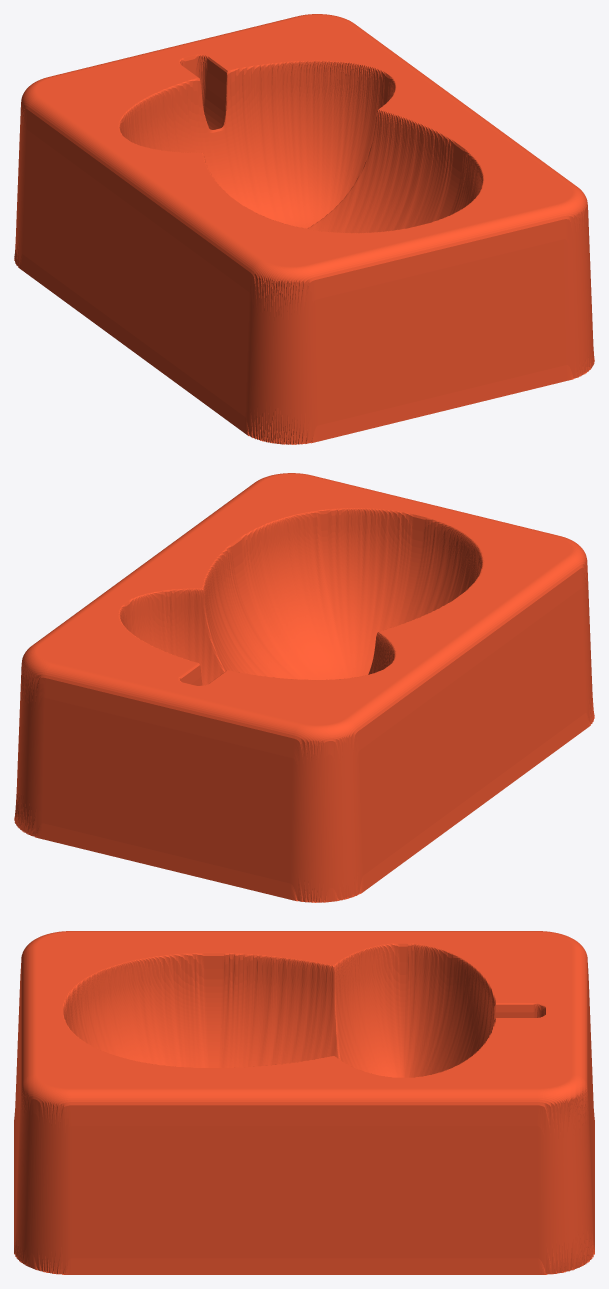
Rendered from mold.glb.
The picture shows the model from 3 angles, top to bottom: view 1: azimuth 30°, elevation 25°; view 2: azimuth 150°, elevation 25°; view 3: azimuth 270°, elevation 25°; orthographic projection. The views are drawn at different scales.
Parts seen in each view (by area): view 1: geometry_0; view 2: geometry_0; view 3: geometry_0.
Part boxes in pixels (box(x1,y1,x2,y2)): geometry_0: box(14, 14, 594, 444); geometry_0: box(14, 473, 594, 902); geometry_0: box(14, 931, 594, 1274).
Size of the model in its own units: 0.066 by 0.031 by 0.0924.
